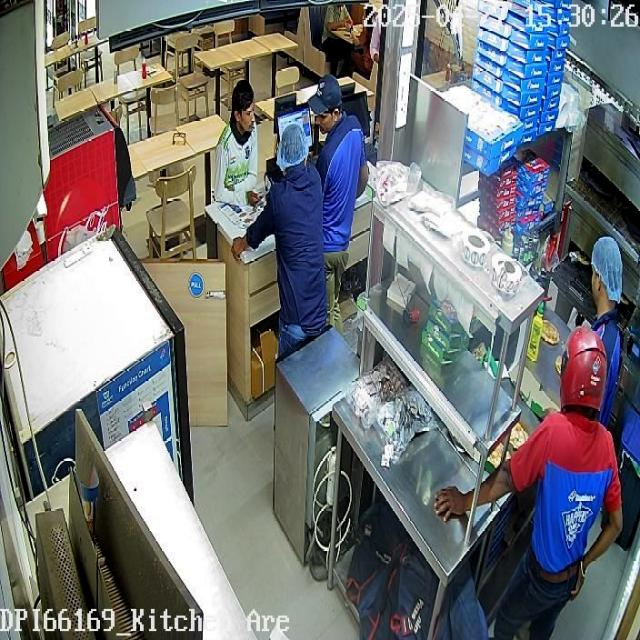helmet: (559, 326, 608, 421)
no_helmet: (590, 235, 623, 317), (308, 73, 342, 134), (275, 124, 308, 169), (231, 78, 256, 133)
